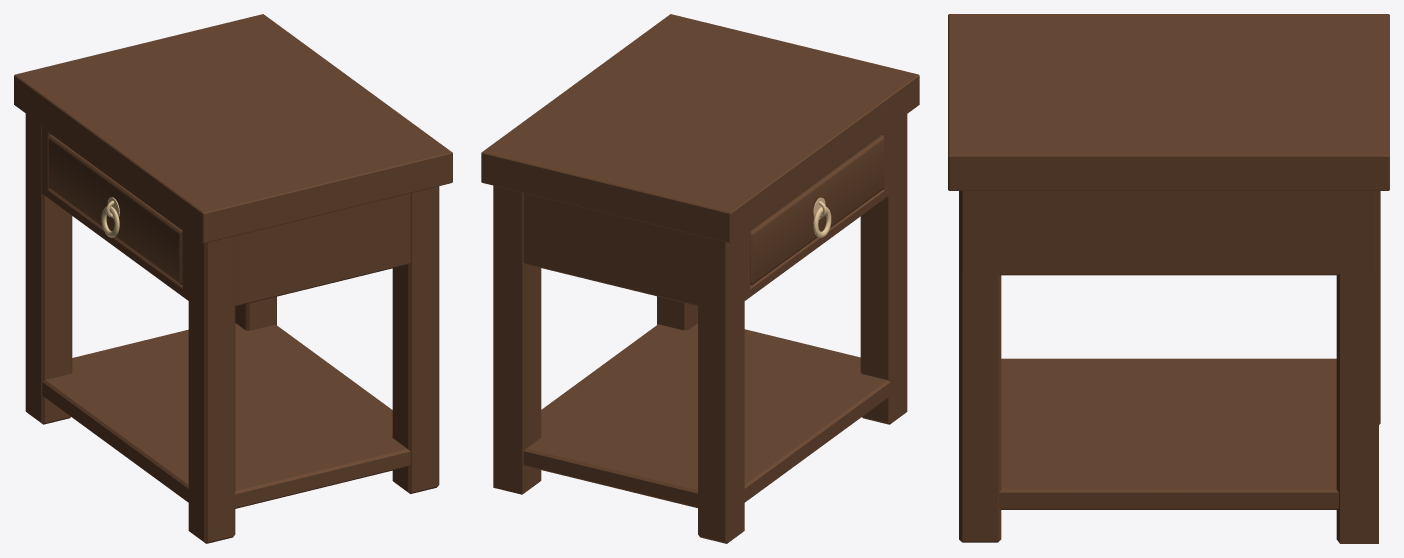
Rendered from sidetable.fbx.
The picture shows the model from 3 angles, left to right: view 1: azimuth 30°, elevation 25°; view 2: azimuth 150°, elevation 25°; view 3: azimuth 270°, elevation 25°; orthographic projection. The views are drawn at different scales.
Parts seen in each view (by area): view 1: Cube.004, Cylinder; view 2: Cube.004, Cylinder; view 3: Cube.004.
Part boxes in pixels (x1,y1,x2,y2): Cube.004: (14,14,452,543); Cylinder: (48,135,182,284); Cube.004: (481,14,919,543); Cylinder: (750,135,884,285); Cube.004: (948,14,1389,543).
Bounding box in the file's own units: 217 × 277 × 283.
